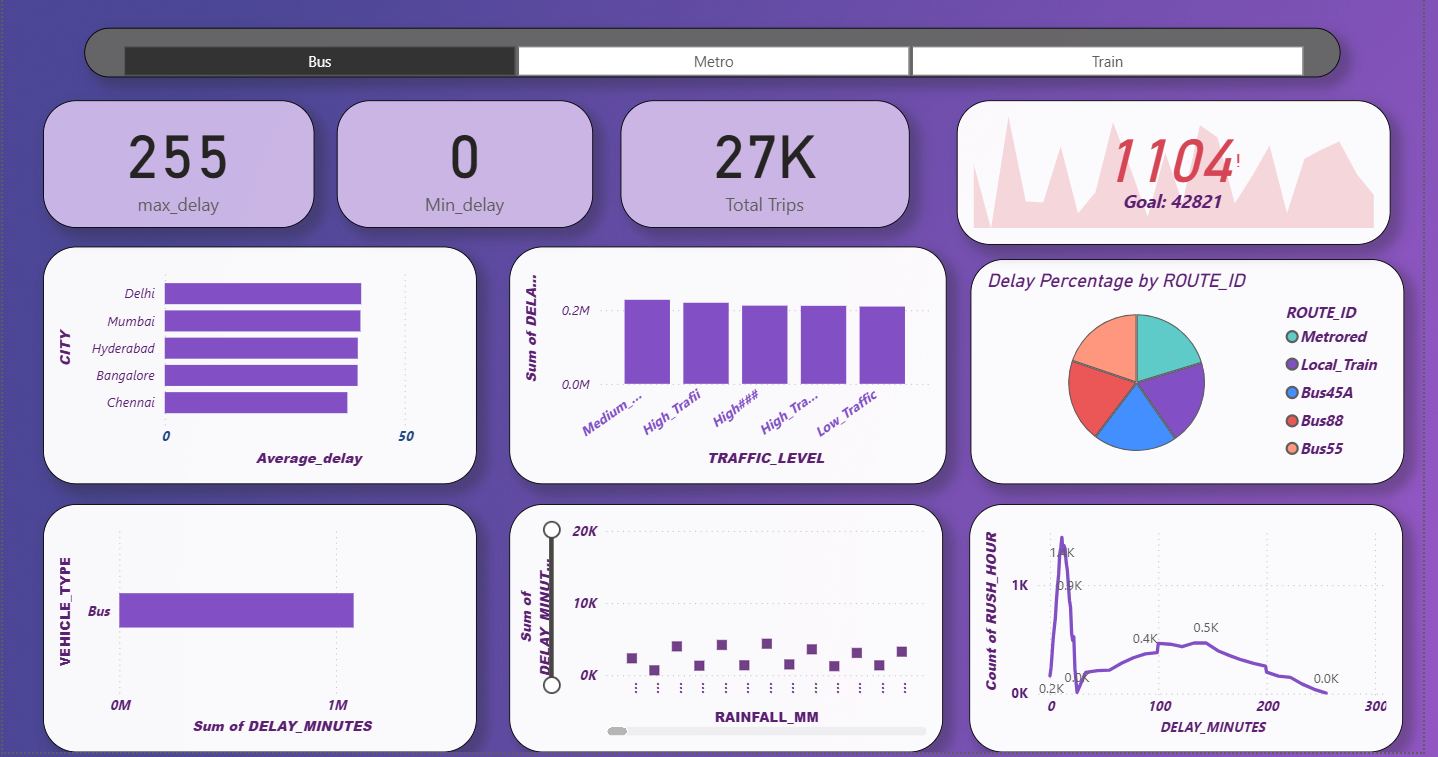

This screenshot's page, from the dashboard's own definition file:
{"tool":"powerbi","page":{"name":"Page 1","canvas":[1280,720],"ordinal":0},"visuals":[{"type":"barChart","fields":{"Category":["Transport_Delay.CITY"],"Y":["Transport_Delay.Average_delay"]},"box":[35.7,263.9,391.2,214.2],"z":0},{"type":"clusteredColumnChart","fields":{"Category":["Transport_Delay.TRAFFIC_LEVEL"],"Y":["Sum(Transport_Delay.DELAY_MINUTES)"]},"box":[456.4,263.9,394.3,214.2],"z":1},{"type":"scatterChart","fields":{"X":["Transport_Delay.RAINFALL_MM"],"Y":["Sum(Transport_Delay.DELAY_MINUTES)"]},"box":[456.8,495.7,391.6,223.7],"z":2},{"type":"lineChart","fields":{"Y":["CountNonNull(Transport_Delay.RUSH_HOUR)"],"Category":["Transport_Delay.DELAY_MINUTES"]},"box":[871.7,495.7,391.6,223.7],"z":3},{"type":"clusteredBarChart","fields":{"Category":["Transport_Delay.VEHICLE_TYPE"],"Y":["Sum(Transport_Delay.DELAY_MINUTES)"]},"box":[35.7,495.7,391.6,223.7],"z":4},{"type":"pieChart","fields":{"Y":["Transport_Delay.Delay Percentage"],"Category":["Transport_Delay.ROUTE_ID"]},"box":[872.4,274.8,391.2,203.3],"z":5},{"type":"card","fields":{"Values":["Transport_Delay.max_delay"]},"box":[36.1,131.9,244.6,115],"z":6},{"type":"card","fields":{"Values":["Transport_Delay.Min_delay"]},"box":[300.9,131.9,231.1,115],"z":7},{"type":"card","fields":{"Values":["Transport_Delay.Total Trips"]},"box":[557.3,131.9,260.8,114.9],"z":8},{"type":"kpi","fields":{"TrendLine":["Transport_Delay.HOUR"],"Goal":["Sum(Transport_Delay.DELAY_MINUTES)"],"Indicator":["Transport_Delay.Total Trips"]},"box":[860,131.9,391.1,130.7],"z":9},{"type":"slicer","fields":{"Values":["Transport_Delay.VEHICLE_TYPE"]},"box":[73,66.7,1133.2,45],"z":10}]}

Visuals, with their boxes in screenshot pixels (x1, y1, x2, y2):
barChart - Transport_Delay.CITY x Transport_Delay.Average_delay: crop(36, 241, 472, 480)
clusteredColumnChart - Transport_Delay.TRAFFIC_LEVEL x Sum(Transport_Delay.DELAY_MINUTES): crop(505, 241, 944, 480)
scatterChart - Transport_Delay.RAINFALL_MM x Sum(Transport_Delay.DELAY_MINUTES): crop(505, 500, 941, 749)
lineChart - CountNonNull(Transport_Delay.RUSH_HOUR) x Transport_Delay.DELAY_MINUTES: crop(967, 500, 1403, 749)
clusteredBarChart - Transport_Delay.VEHICLE_TYPE x Sum(Transport_Delay.DELAY_MINUTES): crop(36, 500, 472, 749)
pieChart - Transport_Delay.Delay Percentage x Transport_Delay.ROUTE_ID: crop(968, 254, 1403, 480)
card - Transport_Delay.max_delay: crop(36, 94, 309, 223)
card - Transport_Delay.Min_delay: crop(331, 94, 589, 223)
card - Transport_Delay.Total Trips: crop(617, 94, 907, 222)
kpi - Transport_Delay.HOUR x Sum(Transport_Delay.DELAY_MINUTES): crop(954, 94, 1390, 240)
slicer - Transport_Delay.VEHICLE_TYPE: crop(78, 22, 1340, 72)
